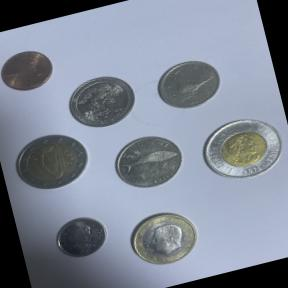1 Euro-B: (117, 198, 212, 278)
2 Euro-B: (5, 122, 94, 198)
Canada-10cent-B: (45, 206, 116, 267)
Canada-2Dollar-B: (191, 105, 288, 190)
Croatia-2Kune-B: (104, 127, 192, 198)
US-1cent-B: (0, 37, 65, 103)
US-25cent-B: (60, 64, 144, 136)
